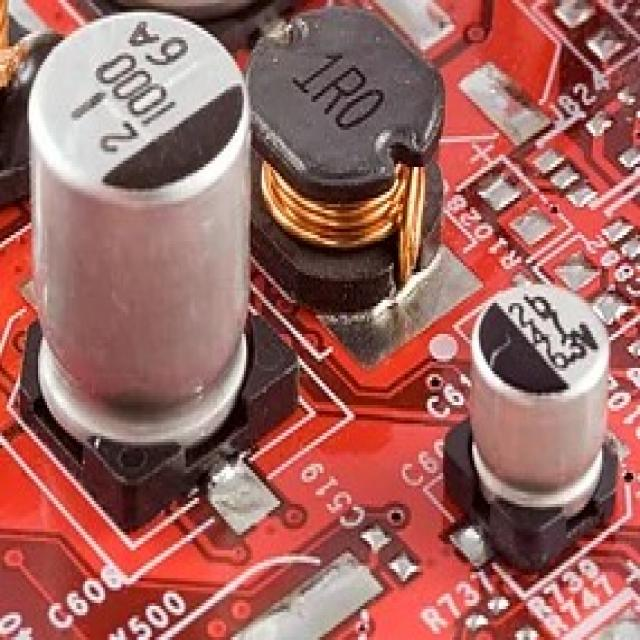capacitor 1V5: (27, 2, 258, 495), (458, 275, 618, 558)
inductor F1: (248, 0, 459, 328)
